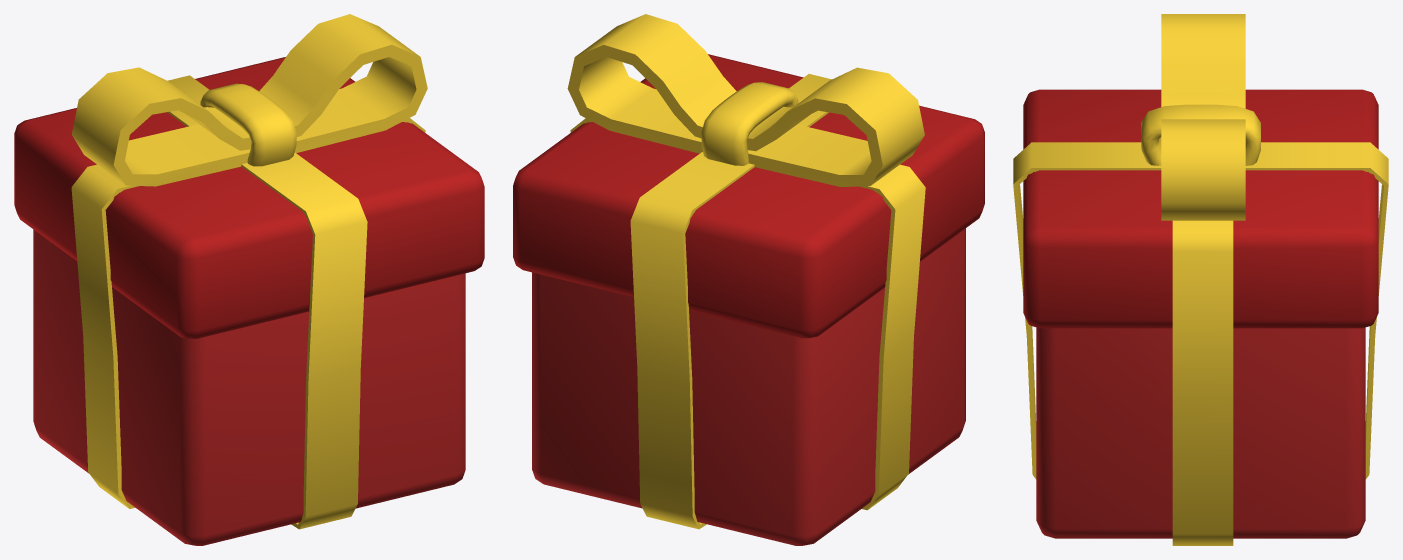
File: gift.glb
The picture shows the model from 3 angles, left to right: view 1: azimuth 30°, elevation 25°; view 2: azimuth 150°, elevation 25°; view 3: azimuth 270°, elevation 25°; orthographic projection.
Parts seen in each view (by area): view 1: gift 02; view 2: gift 02; view 3: gift 02.
Part boxes in pixels (x1,y1,x2,y2): gift 02: (14,14,484,545); gift 02: (513,14,984,545); gift 02: (1013,14,1388,545).
Size of the model in its own units: 0.4155 by 0.5067 by 0.4155.
Materials: 1 (1 with a texture image).
